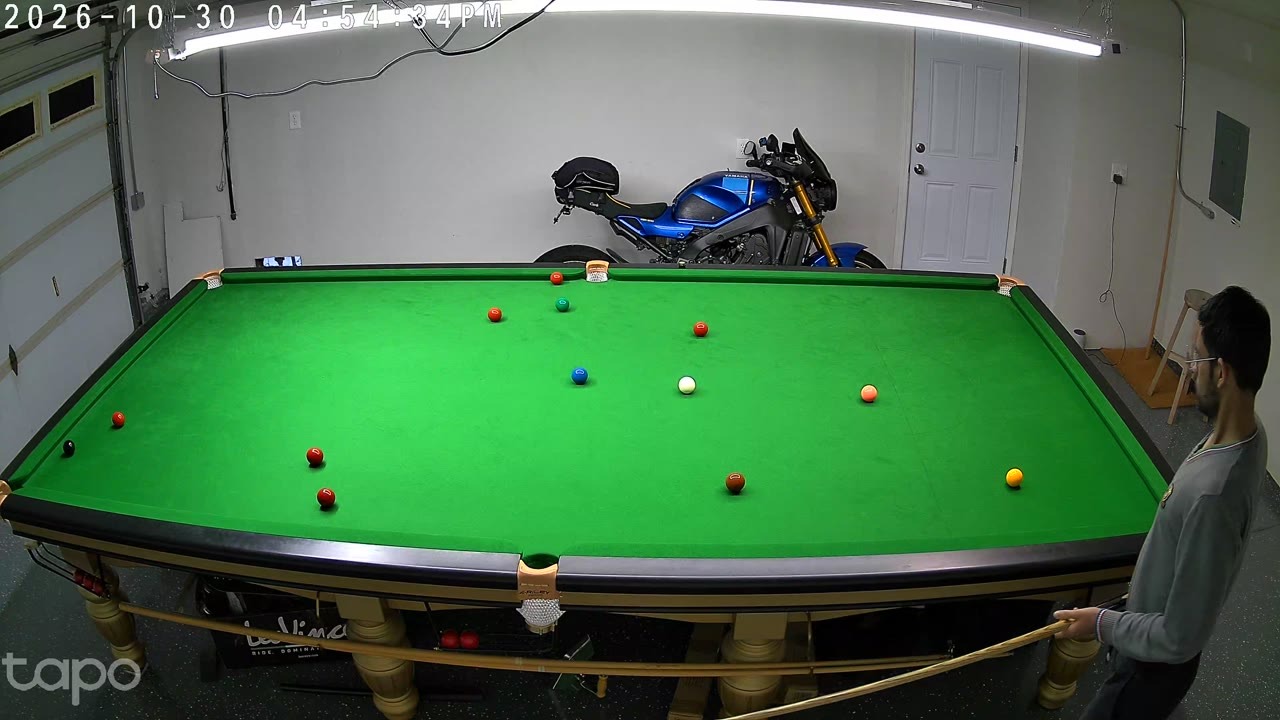black: (62, 438, 76, 459)
blue: (572, 366, 588, 387)
brown: (726, 471, 744, 496)
green: (556, 297, 569, 314)
pink: (860, 384, 876, 403)
red: (317, 486, 336, 513), (307, 445, 323, 470), (112, 410, 125, 430), (694, 320, 707, 340), (488, 306, 501, 325), (551, 271, 562, 288)
white: (678, 375, 695, 396)
yellow: (1006, 467, 1023, 489)
